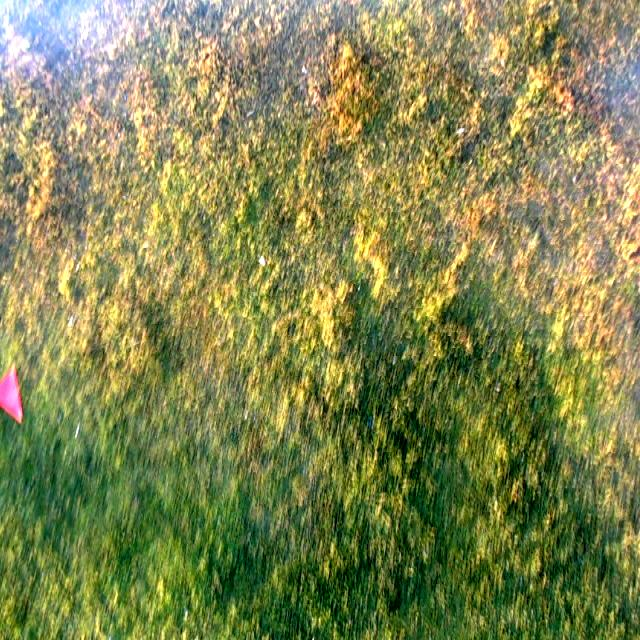red_triangle: (0, 363, 24, 423)
